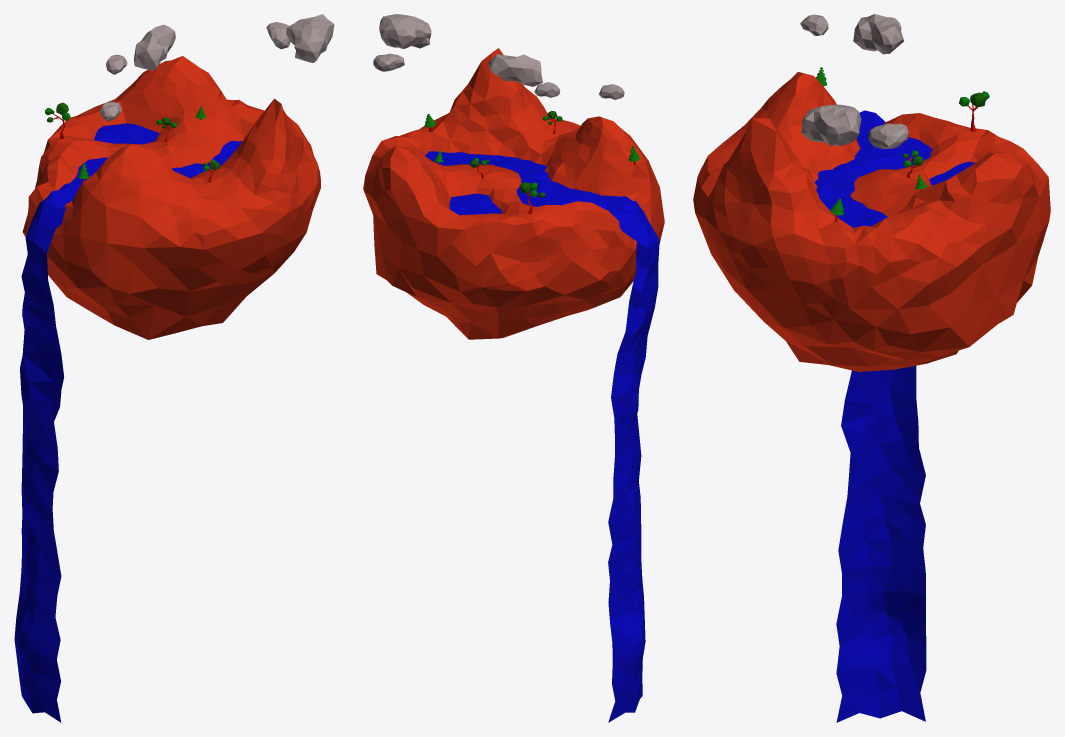
Rendered from isle.obj.
3 views of the same model, side by side, from view 1: azimuth 30°, elevation 25°; view 2: azimuth 150°, elevation 25°; view 3: azimuth 270°, elevation 25° (orthographic). The views are drawn at different scales.
Visible parts, largest first — view 1: Icosphere, Plane, Icosphere.007_Icosphere.008; view 2: Icosphere, Plane, Icosphere.007_Icosphere.008; view 3: Icosphere, Plane, Icosphere.007_Icosphere.008.
Boxes of the visible parts, x1,y1,x2,y2 form: Icosphere: [22, 56, 320, 339]; Plane: [14, 123, 242, 722]; Icosphere.007_Icosphere.008: [100, 14, 334, 121]; Icosphere: [363, 48, 664, 339]; Plane: [425, 151, 659, 722]; Icosphere.007_Icosphere.008: [373, 14, 624, 99]; Icosphere: [693, 72, 1050, 371]; Plane: [815, 110, 975, 722]; Icosphere.007_Icosphere.008: [800, 14, 908, 148].
Bounding box in the file's own units: 21.54 × 45.86 × 19.24.
